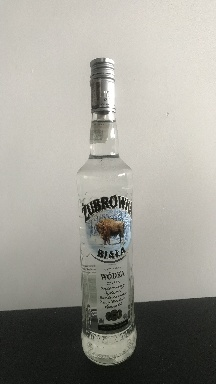butelka: (74, 54, 138, 368)
